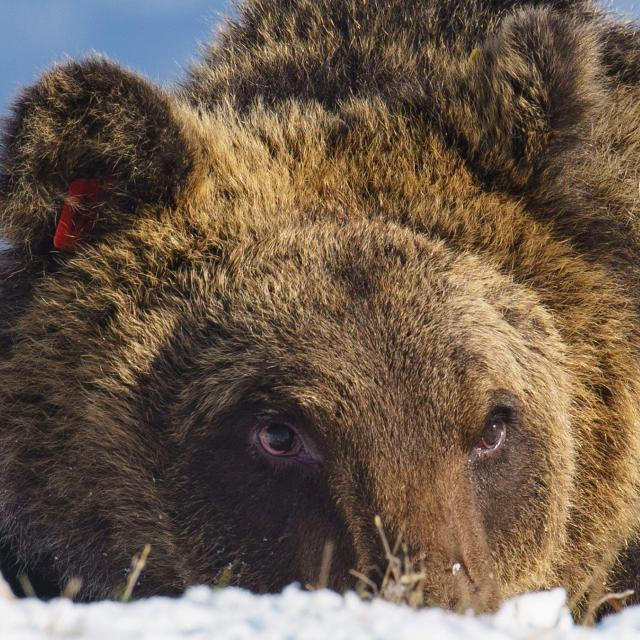Bear: (0, 0, 640, 630)
